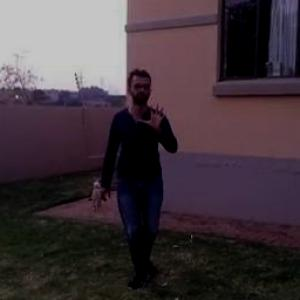follow_hand: (137, 98, 172, 135)
